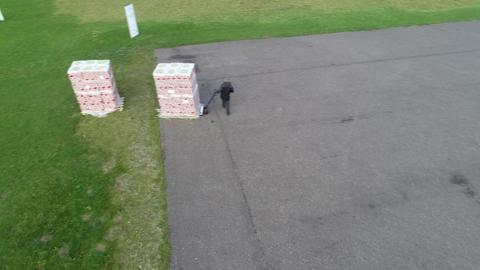RockwoolPallet: (67, 60, 124, 117)
